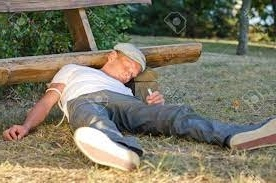fall: (12, 40, 265, 173)
